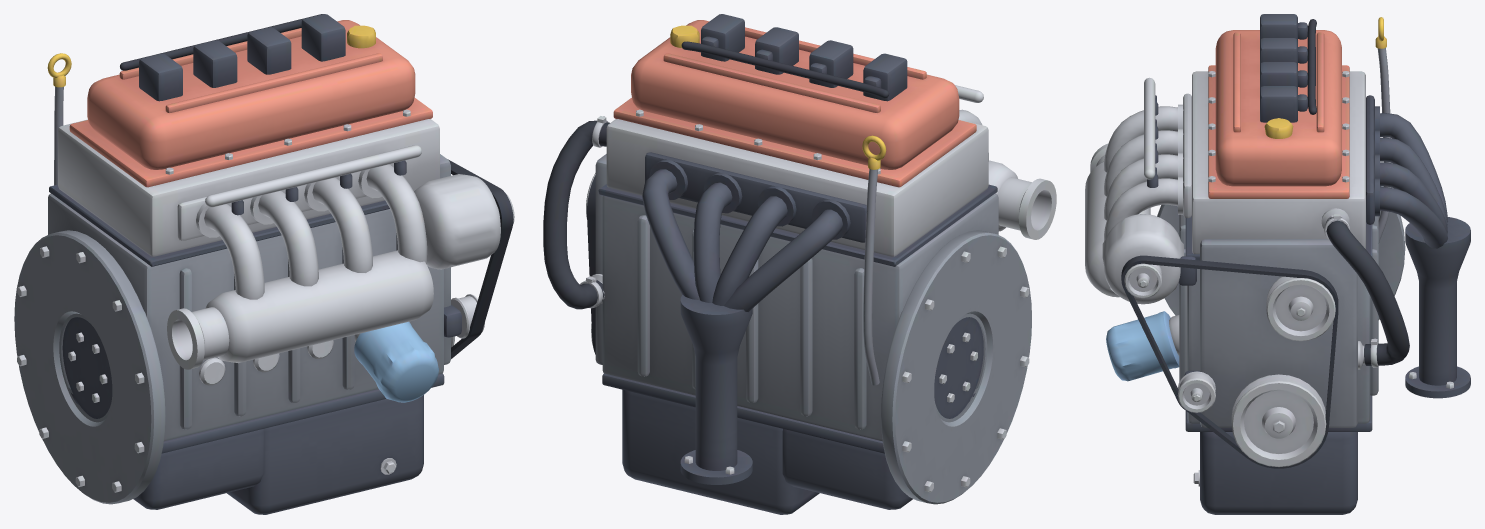
File: car-engine-blender.obj
3 renders of one model, left to right at view 1: azimuth 30°, elevation 25°; view 2: azimuth 150°, elevation 25°; view 3: azimuth 270°, elevation 25°, orthographic. The views are drawn at different scales.
Visible parts, largest first — view 1: car-engine_body; view 2: car-engine_body; view 3: car-engine_body.
Boxes of the visible parts, x1=… form: car-engine_body: x1=14, y1=14, x2=514, y2=514; car-engine_body: x1=543, y1=14, x2=1056, y2=514; car-engine_body: x1=1085, y1=14, x2=1470, y2=514.
Bounding box in the file's own units: 0.7075 × 0.8143 × 0.7088.
1 material, 1 textured.
